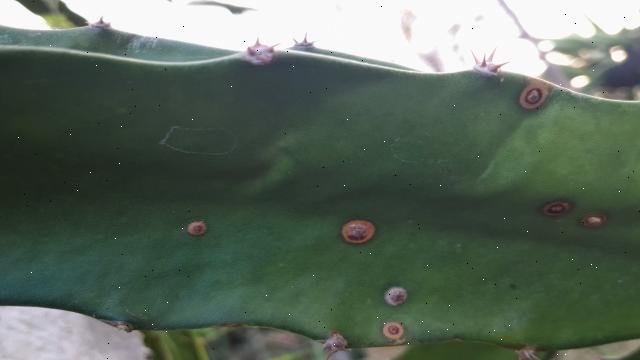stemcanker: (338, 216, 378, 245), (515, 83, 550, 114), (379, 318, 408, 347), (538, 197, 573, 219), (579, 210, 609, 233), (185, 219, 209, 240)
